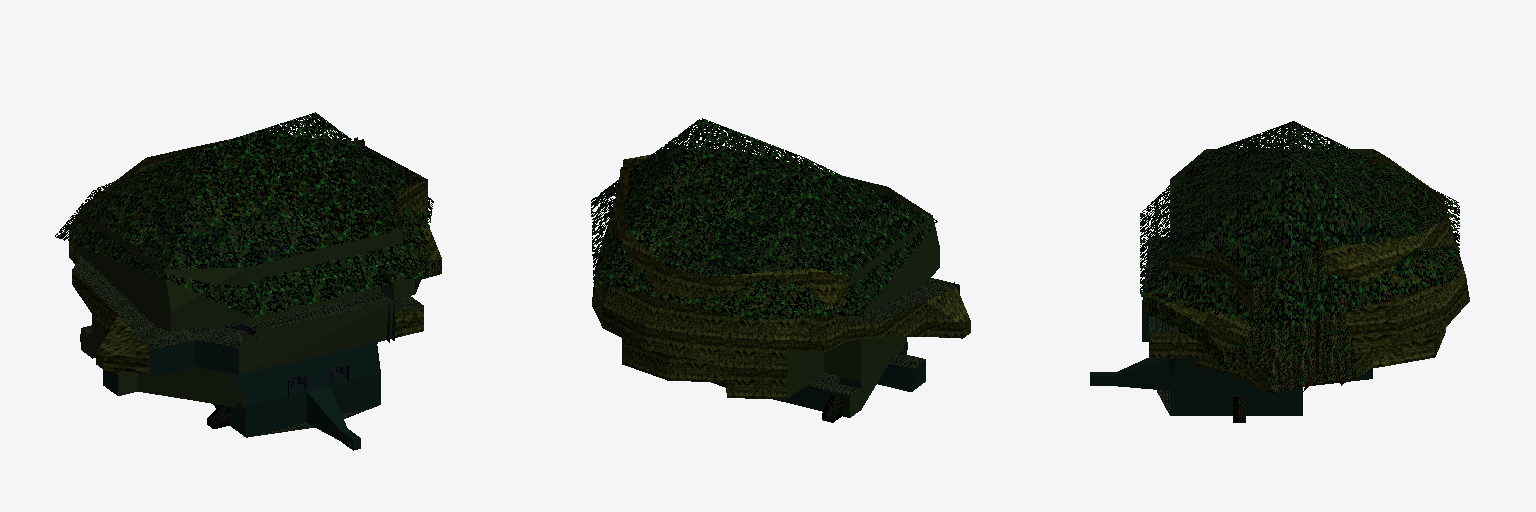
3 views of the same model, side by side, from view 1: azimuth 30°, elevation 25°; view 2: azimuth 150°, elevation 25°; view 3: azimuth 270°, elevation 25° (orthographic).
Visible parts, largest first — view 1: temple1; view 2: temple1; view 3: temple1.
Boxes of the visible parts, box(x1,y1,x2,y2) form: temple1: box(55, 112, 441, 450); temple1: box(591, 118, 970, 422); temple1: box(1090, 121, 1469, 422).
Size of the model in its own units: 7.38 by 4.99 by 6.85.
14 materials, 10 textured.